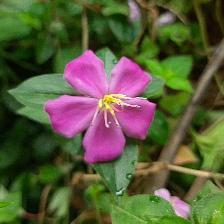malabar melastome: (45, 49, 159, 168)
